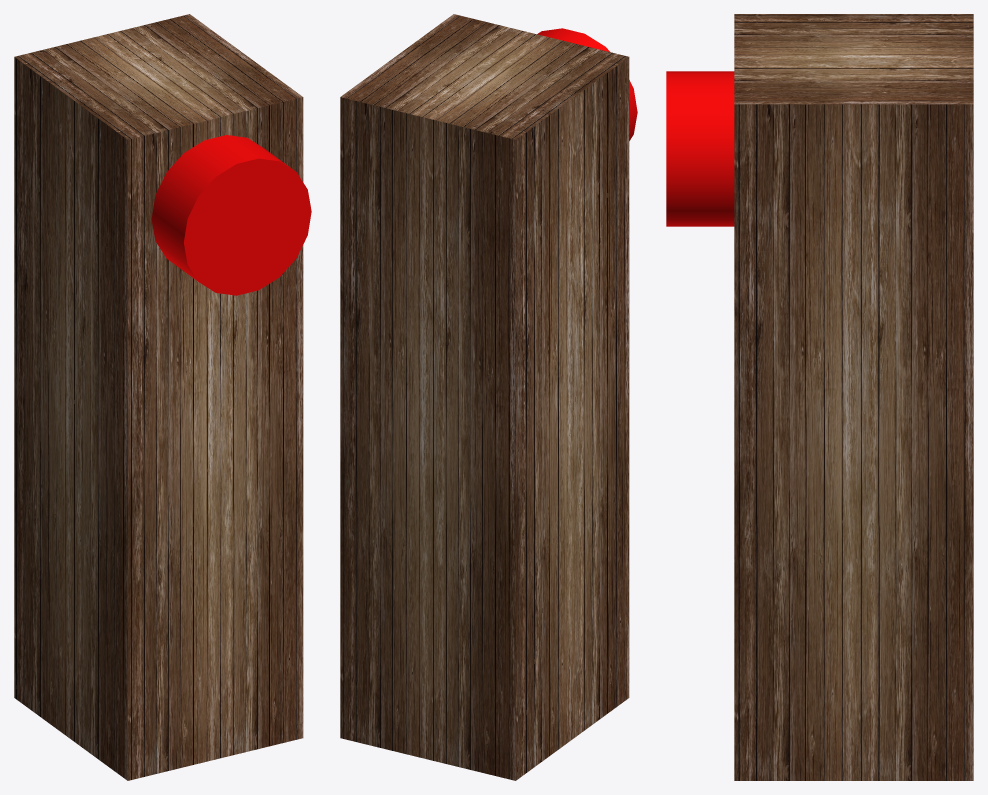
The model's file is Button.FBX.
3 views of the same model, side by side, from view 1: azimuth 30°, elevation 25°; view 2: azimuth 150°, elevation 25°; view 3: azimuth 270°, elevation 25° (orthographic). The views are drawn at different scales.
Visible parts, largest first — view 1: Poteau, Button; view 2: Poteau, Button; view 3: Poteau, Button.
Part boxes in pixels (x1,y1,x2,y2): Poteau: (14,14,303,780); Button: (151,135,311,295); Poteau: (340,14,629,780); Button: (537,28,637,140); Poteau: (734,14,973,780); Button: (666,71,734,226).
Size of the model in its own units: 20.91 by 73.02 by 30.08.
